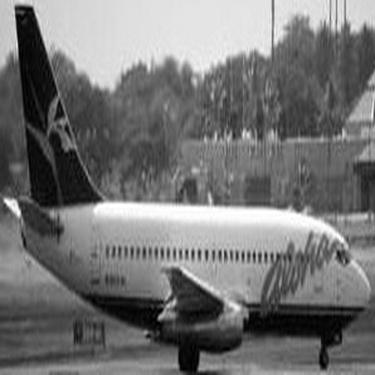airplane: (4, 1, 369, 371)
